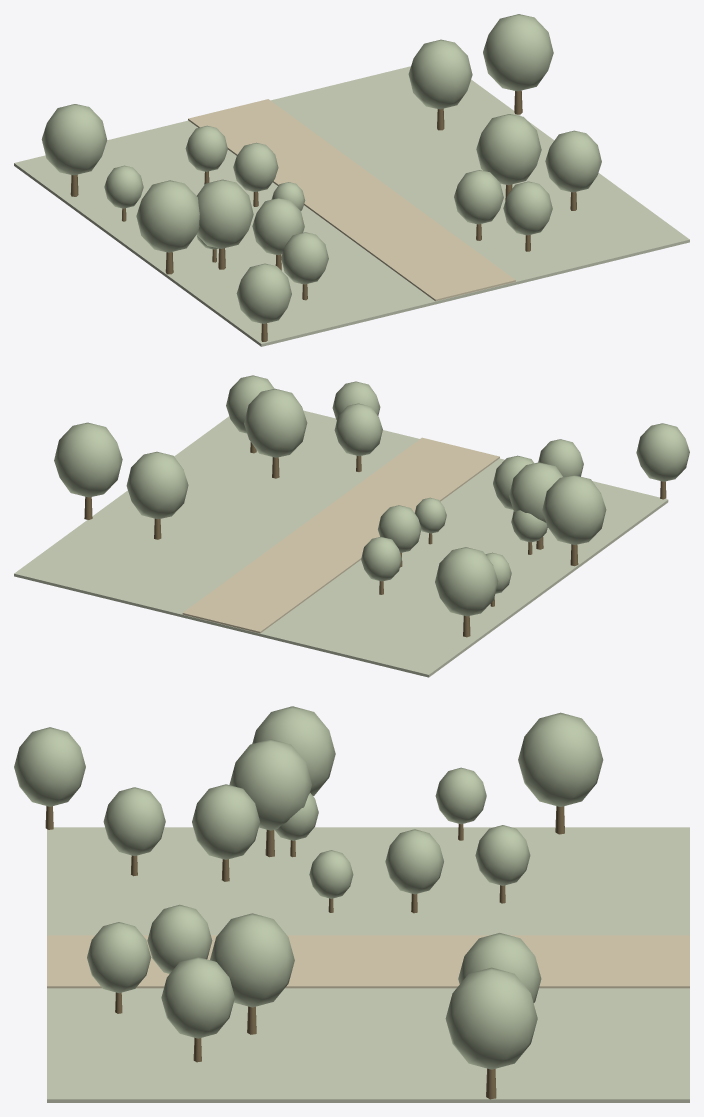
3 views of the same model, one above another, from view 1: azimuth 30°, elevation 25°; view 2: azimuth 150°, elevation 25°; view 3: azimuth 270°, elevation 25° (orthographic). The views are drawn at different scales.
Visible parts, largest first — view 1: terrain, object 2, lod-near-15, lod-near-31, lod-near-22, lod-near-27, lod-near-24, lod-near-0, lod-near-12, lod-near-26, lod-near-29, lod-near-11 (+6 smaller); view 2: terrain, object 2, lod-near-15, lod-near-31, lod-near-22, lod-near-27, lod-near-24, lod-near-26, lod-near-11, lod-near-0, lod-near-6, lod-near-28 (+7 smaller); view 3: terrain, object 2, lod-near-15, lod-near-22, lod-near-27, lod-near-0, lod-near-12, lod-near-26, lod-near-29, lod-near-10, lod-near-31, lod-near-30 (+7 smaller).
Part boxes in pixels (x1,y1,x2,y2): terrain: (14,66,689,346); object 2: (188,99,515,301); lod-near-15: (483,14,553,91); lod-near-31: (136,180,199,252); lod-near-22: (41,104,107,175); lod-near-27: (476,114,541,185); lod-near-24: (408,39,472,109); lod-near-0: (196,179,253,248); lod-near-12: (545,130,601,192); lod-near-26: (236,263,291,323); lod-near-29: (252,198,304,255); lod-near-11: (454,170,503,224); terrain: (14,410,668,677); object 2: (182,437,499,633); lod-near-15: (54,422,122,497); lod-near-31: (542,475,606,544); lod-near-22: (435,547,498,616); lod-near-27: (244,388,307,457); lod-near-24: (126,451,188,519); lod-near-26: (636,423,689,481); lod-near-11: (334,403,382,456); lod-near-0: (509,462,562,527); lod-near-6: (378,505,421,552); lod-near-28: (361,537,401,581); terrain: (47,827,689,1102); object 2: (47,935,689,988); lod-near-15: (445,967,537,1069); lod-near-22: (518,712,603,806); lod-near-27: (210,913,294,1007); lod-near-0: (229,739,311,830); lod-near-12: (161,957,234,1038); lod-near-26: (14,727,85,806); lod-near-29: (192,784,259,859); lod-near-10: (87,922,151,993); lod-near-31: (252,706,335,795); lod-near-30: (103,787,165,856).
Size of the model in its own units: 36.2 by 7.24 by 33.64.
